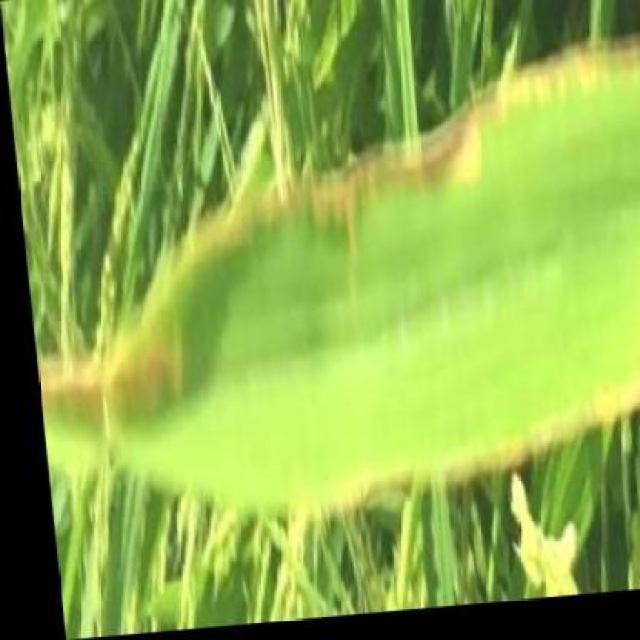Brown_Spot: (32, 119, 640, 524)
